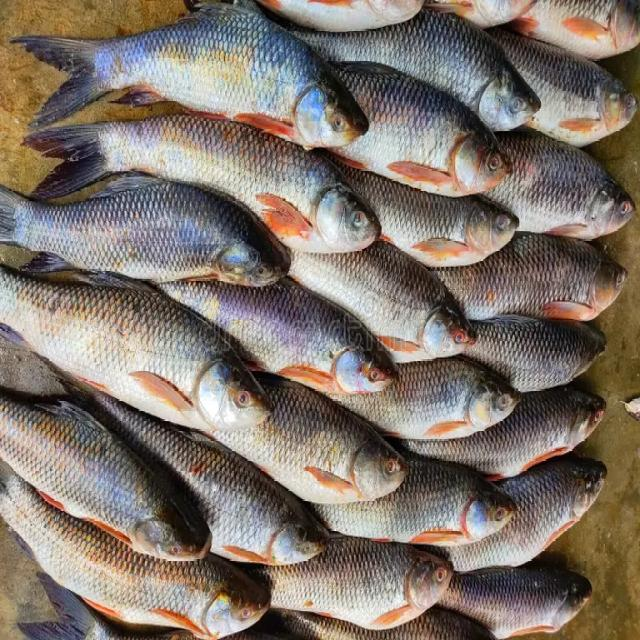Rohu: (25, 1, 372, 149), (1, 266, 273, 427), (0, 177, 290, 288), (154, 273, 398, 396)
